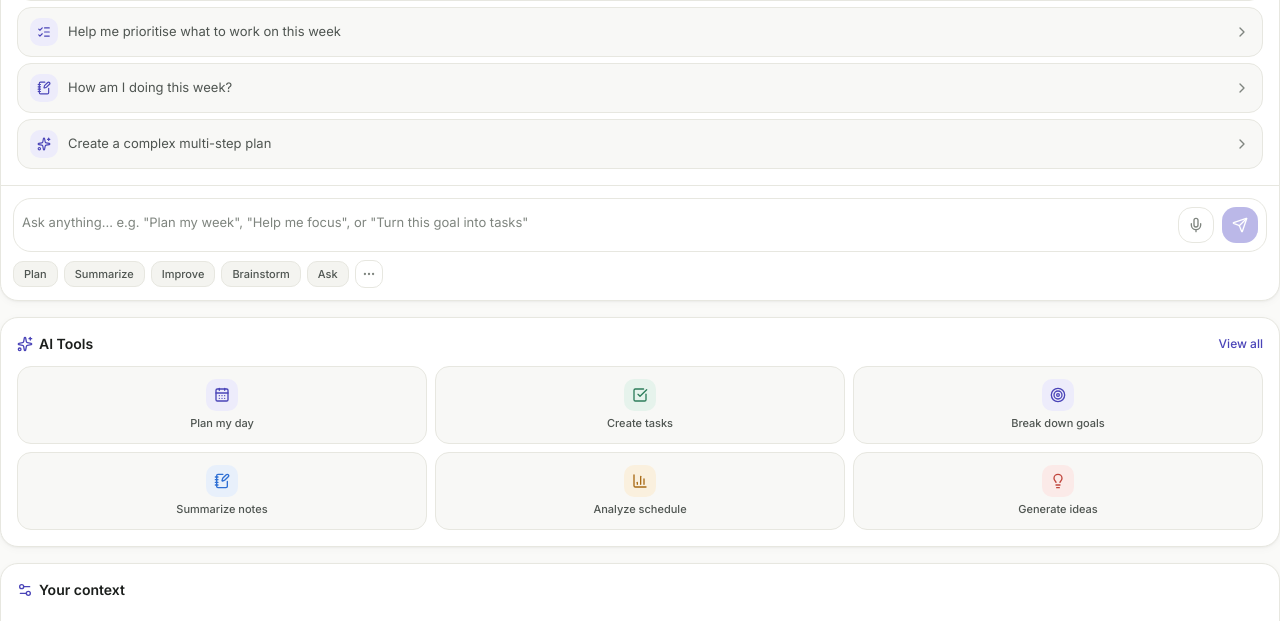
ai tools › reveals more tools on view all
(page scrolled)
Click the button with test id "ai-tools-view-all" at (1241, 344), box left=1219, top=336, right=1263, bottom=352
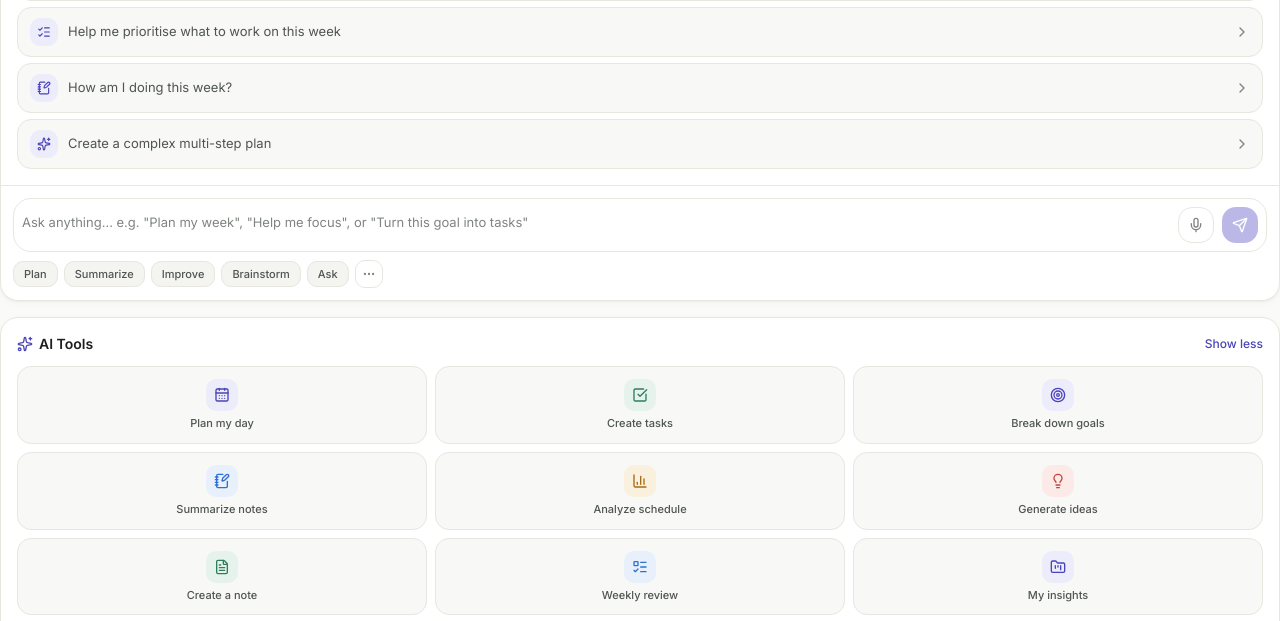
Expected: the button with test id "ai-tool-weekly-review" is shown, left=435, top=538, right=845, bottom=615
